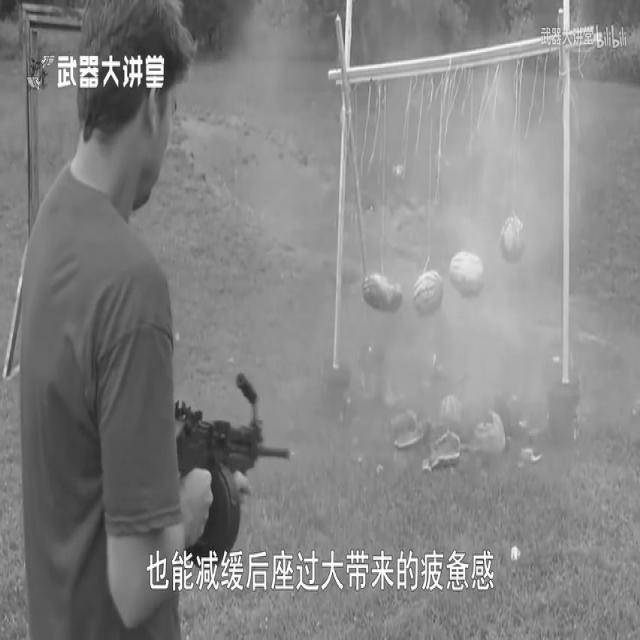Sniper: (114, 305, 329, 607)
